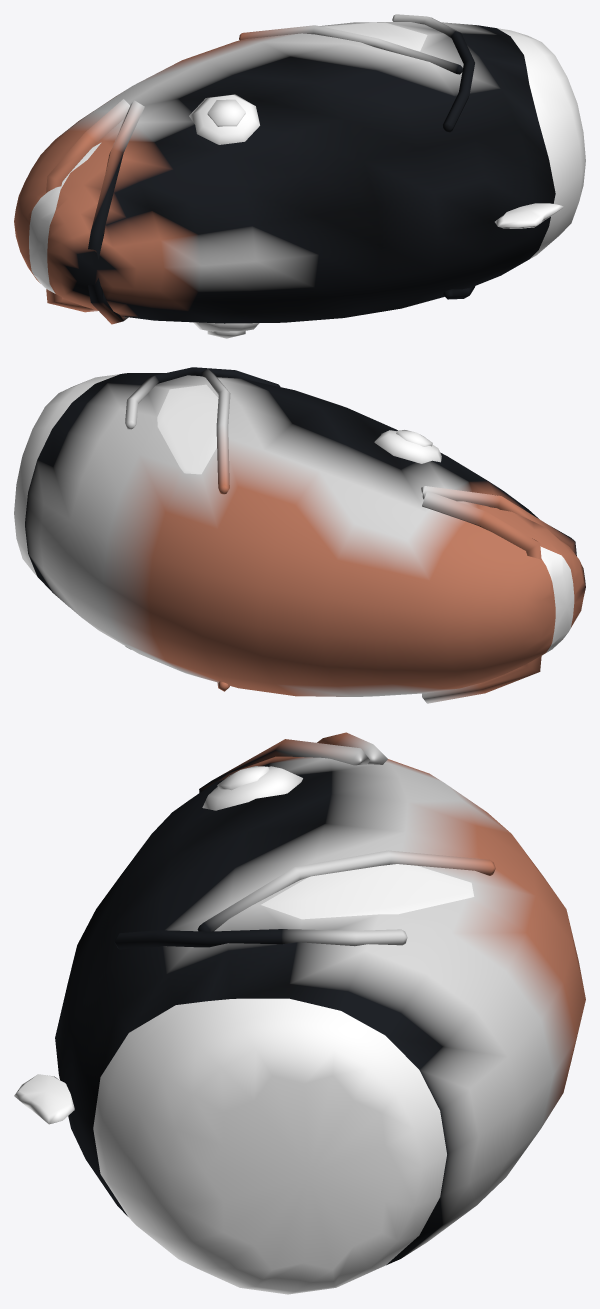
The model's file is RAW_fish_head.fbx.
The picture shows the model from 3 angles, top to bottom: view 1: azimuth 30°, elevation 25°; view 2: azimuth 150°, elevation 25°; view 3: azimuth 270°, elevation 25°; orthographic projection. The views are drawn at different scales.
Parts seen in each view (by area): view 1: RAW_fish_head; view 2: RAW_fish_head; view 3: RAW_fish_head.
Part boxes in pixels (<box>): RAW_fish_head: <box>14,14,585,338</box>; RAW_fish_head: <box>14,367,585,703</box>; RAW_fish_head: <box>14,732,585,1294</box>.
Size of the model in its own units: 0.1852 by 0.0897 by 0.1246.
